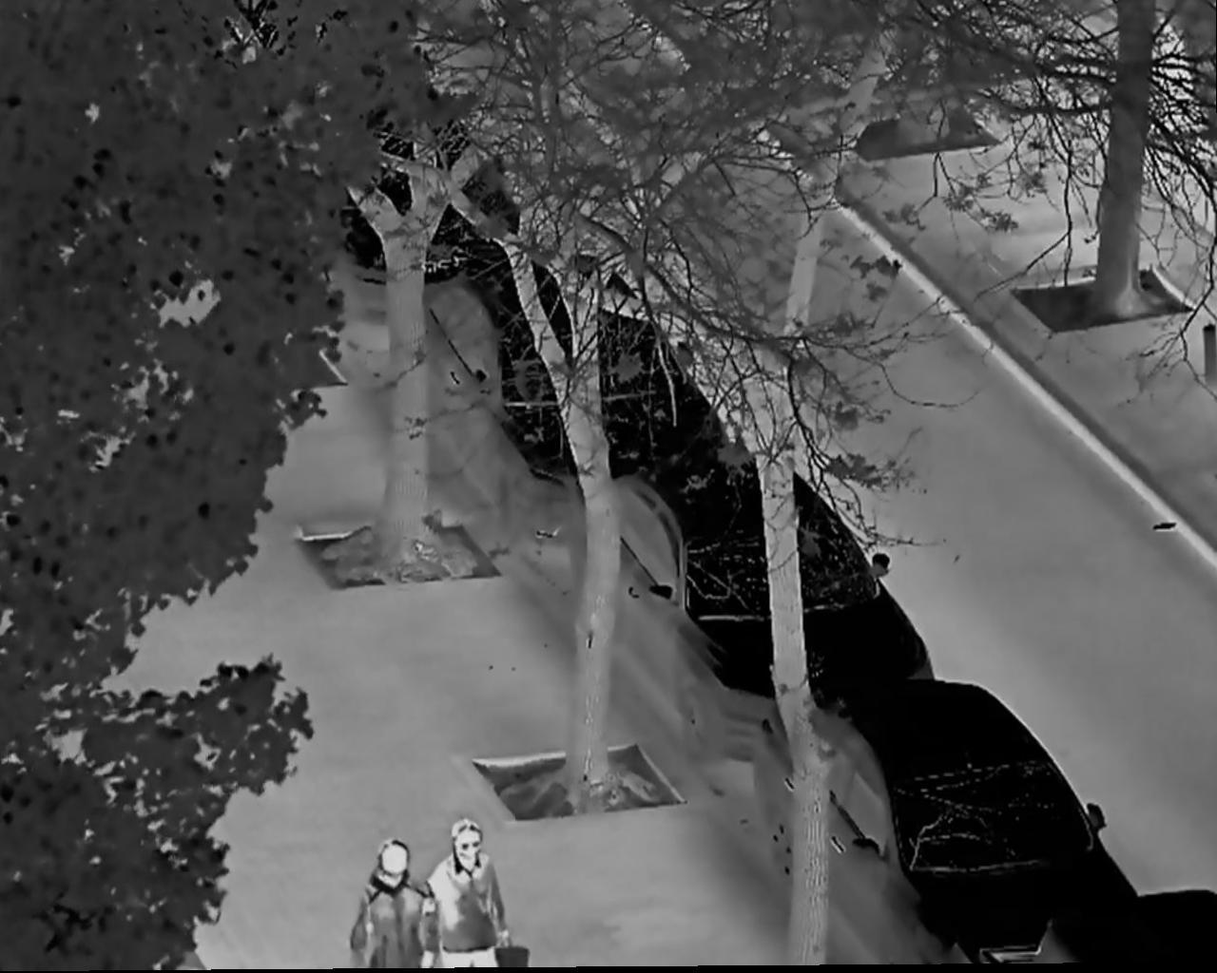person: (424, 818, 515, 973), (355, 839, 435, 966)
